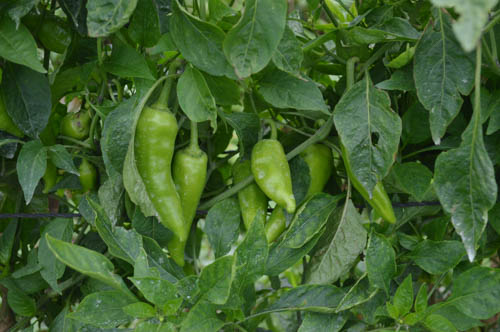ChiliPepper: (135, 106, 184, 238), (267, 146, 328, 242), (166, 153, 208, 267), (344, 137, 396, 217), (255, 141, 293, 211), (232, 157, 262, 226)
